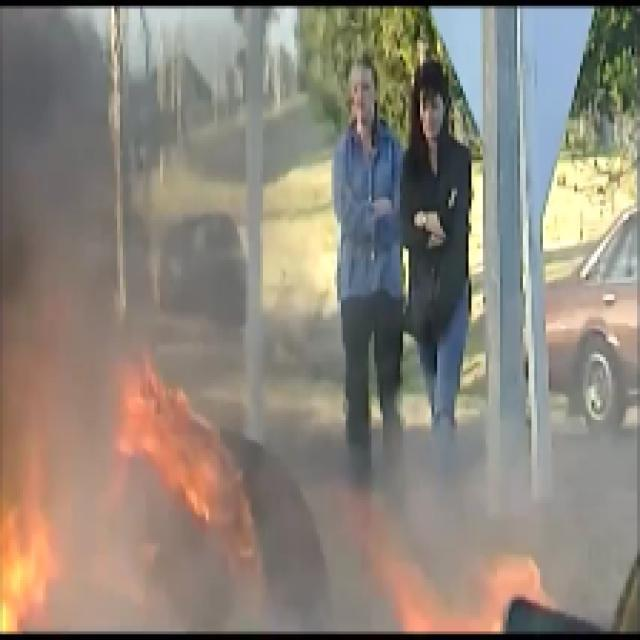Fire: (348, 488, 551, 640), (112, 354, 228, 534), (3, 340, 66, 640)
Smoke: (3, 2, 100, 328)
